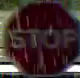Stop: (4, 2, 79, 77)
